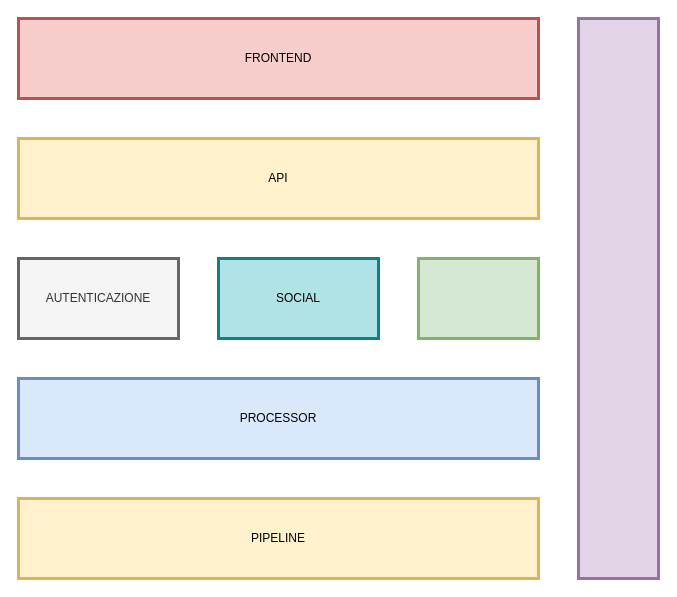
The diagram is 677 pixels wide and 597 high, and some of its shapes have lost their labels. The shapes that lost their labels are listed below. From the top down, each one's centre as x and y in pixels, then its label:
At [478,298]: "ANALISI".
At [618,298]: "METRICHE".
